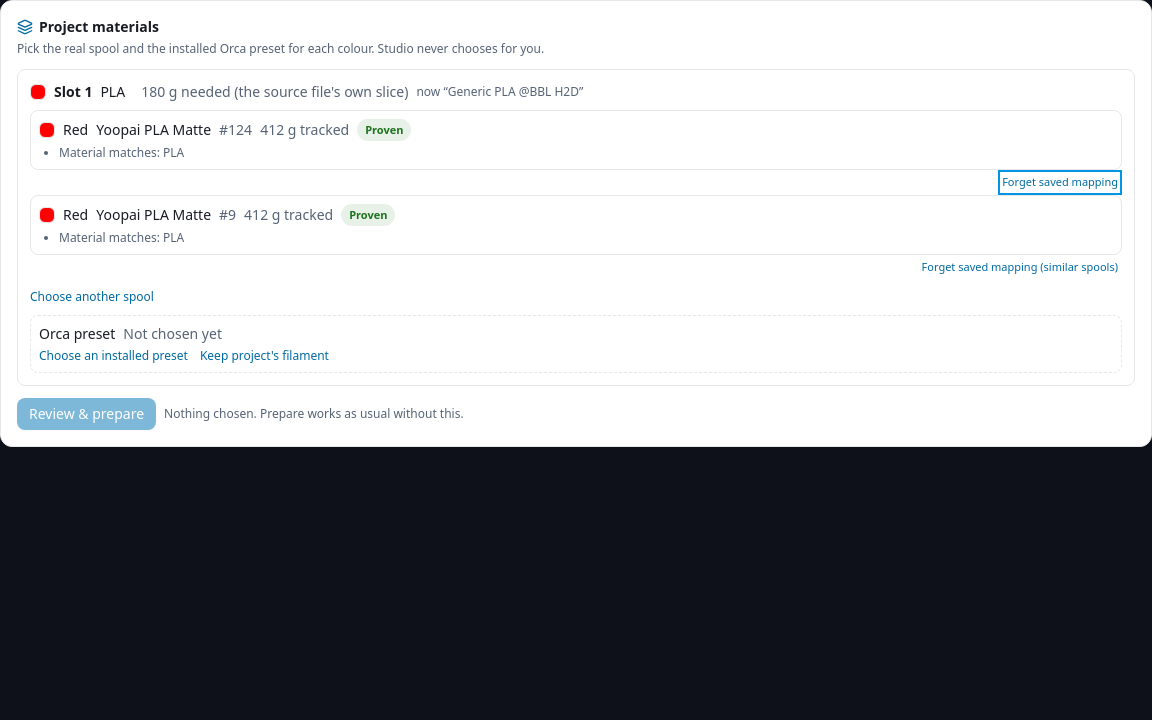
Scenario: forgetting › leaves other saved mappings alone
Check: the text "Slot 1" is shown, box [54,82,92,102]
Click the button with test id "forget-mapping" showing "Forget saved mapping" at coordinates (1060, 182), box [1002,174,1118,190]
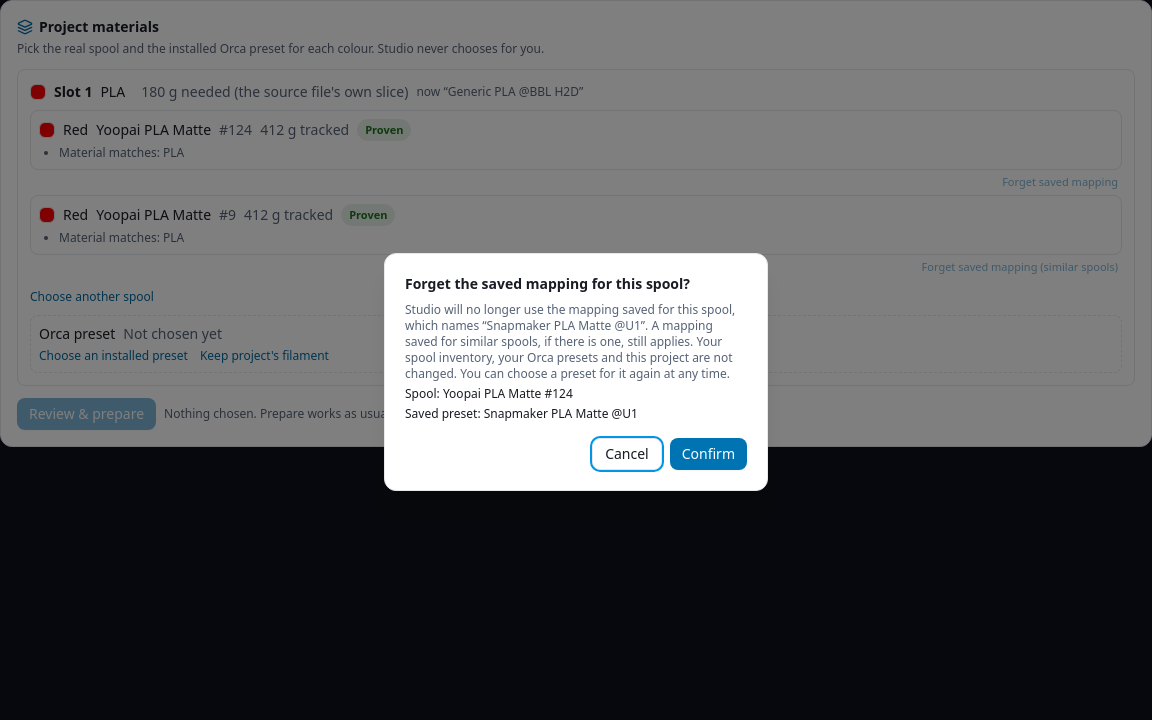
Click the button "Confirm" at coordinates (708, 454), box [670,438,747,470]
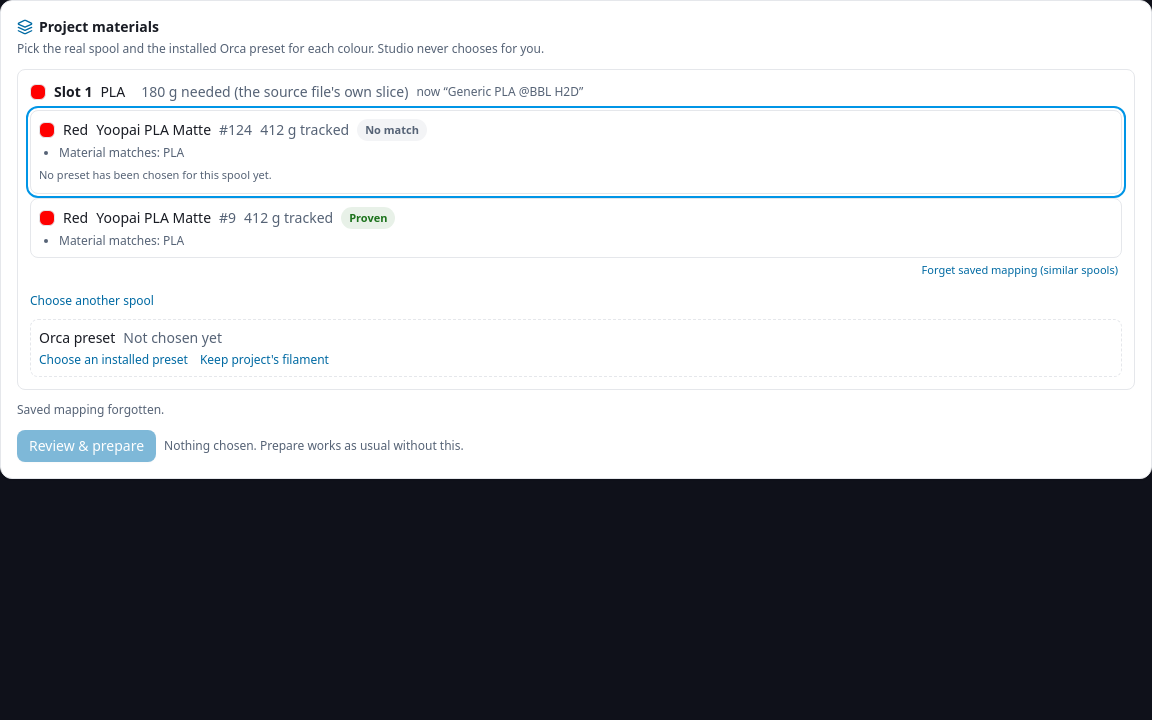
Check: the button with test id "forget-mapping" shows "similar spools", box [922,262,1118,278]
Check: the dialog is gone
Check: the number of buttons with test id "forget-mapping" is 1, box [922,262,1118,278]
